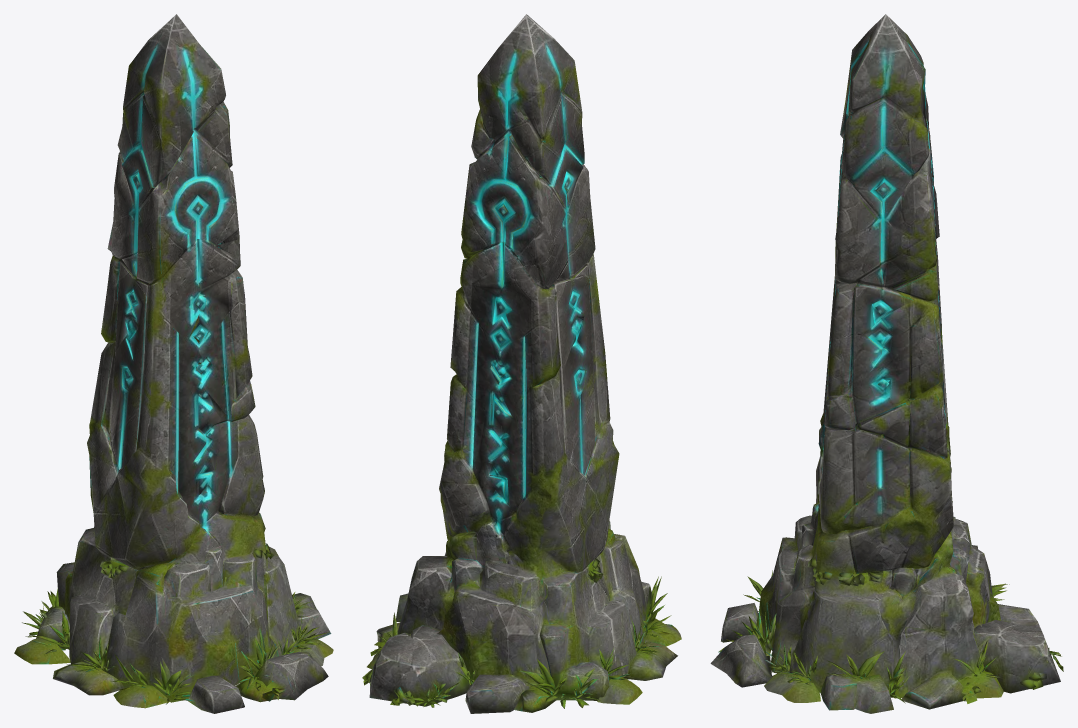
The model's file is obelisk.glb.
3 views of the same model, side by side, from view 1: azimuth 30°, elevation 25°; view 2: azimuth 150°, elevation 25°; view 3: azimuth 270°, elevation 25° (orthographic).
Size of the model in its own units: 0.4219 by 0.9531 by 0.4805.
1 material, 1 textured.
